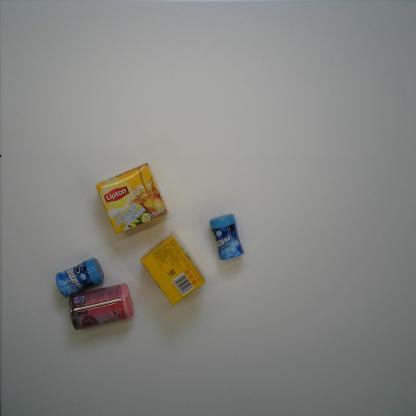Canned Food: (68, 282, 134, 332)
Gum: (54, 257, 104, 298), (209, 212, 246, 262)
Instant Drink: (94, 161, 167, 235), (140, 236, 206, 306)
